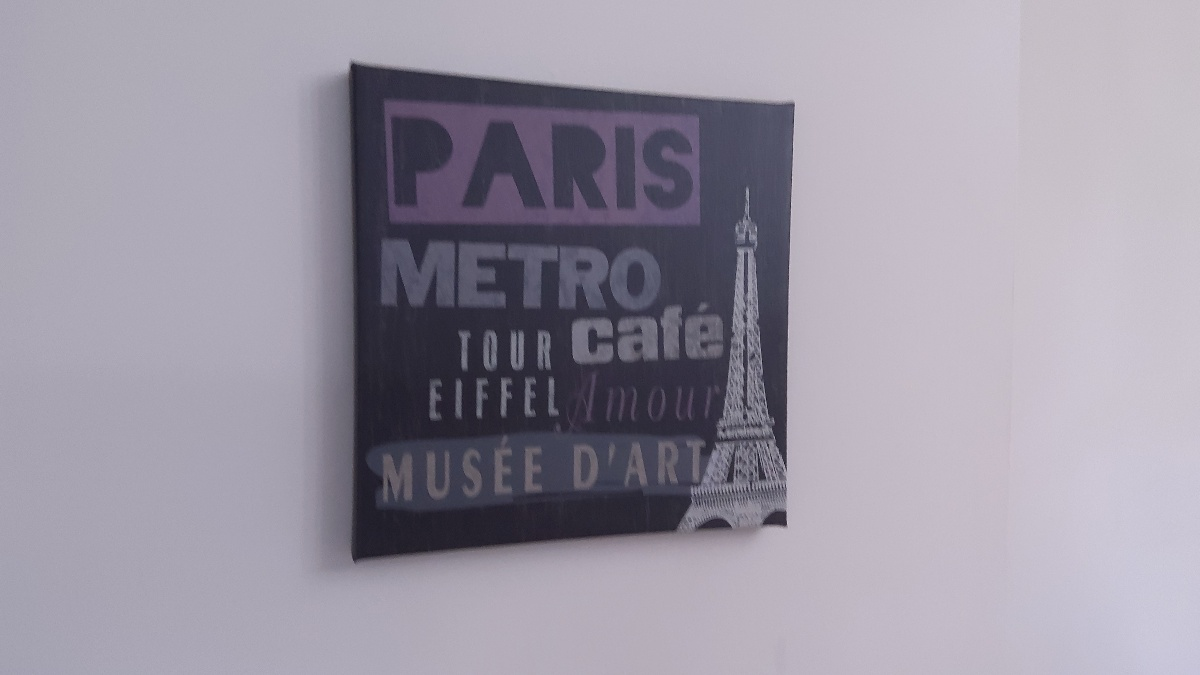poster: (345, 56, 794, 558)
